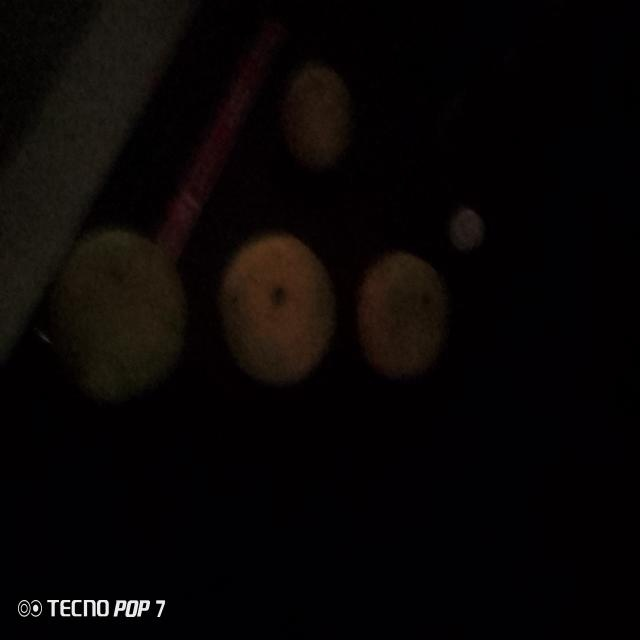agrume: (45, 234, 181, 392), (219, 226, 338, 392), (359, 243, 453, 383), (270, 57, 356, 164)
